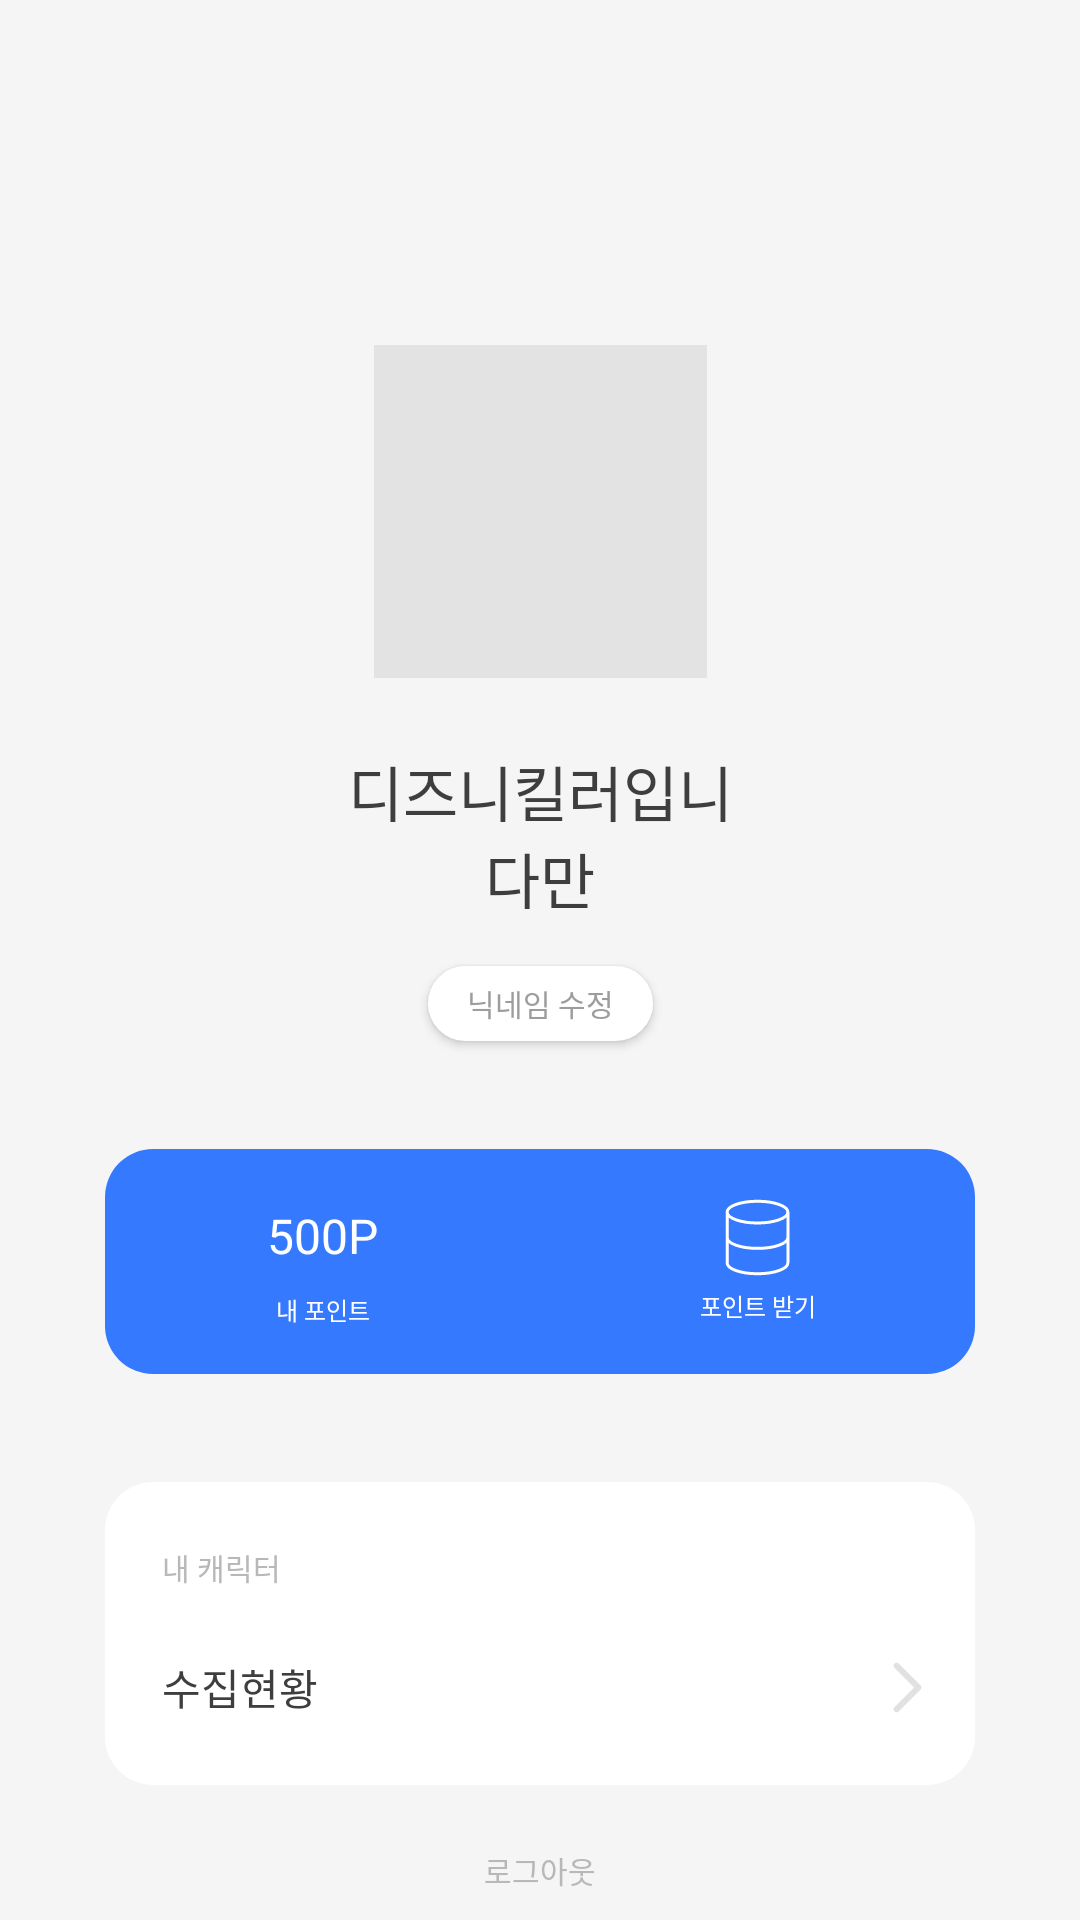

Where icons sit on this 1080×1920 app screen, as [left=x1, top=y1, right=x2, bottom=y2]:
arrow right: [left=894, top=1663, right=921, bottom=1712]
